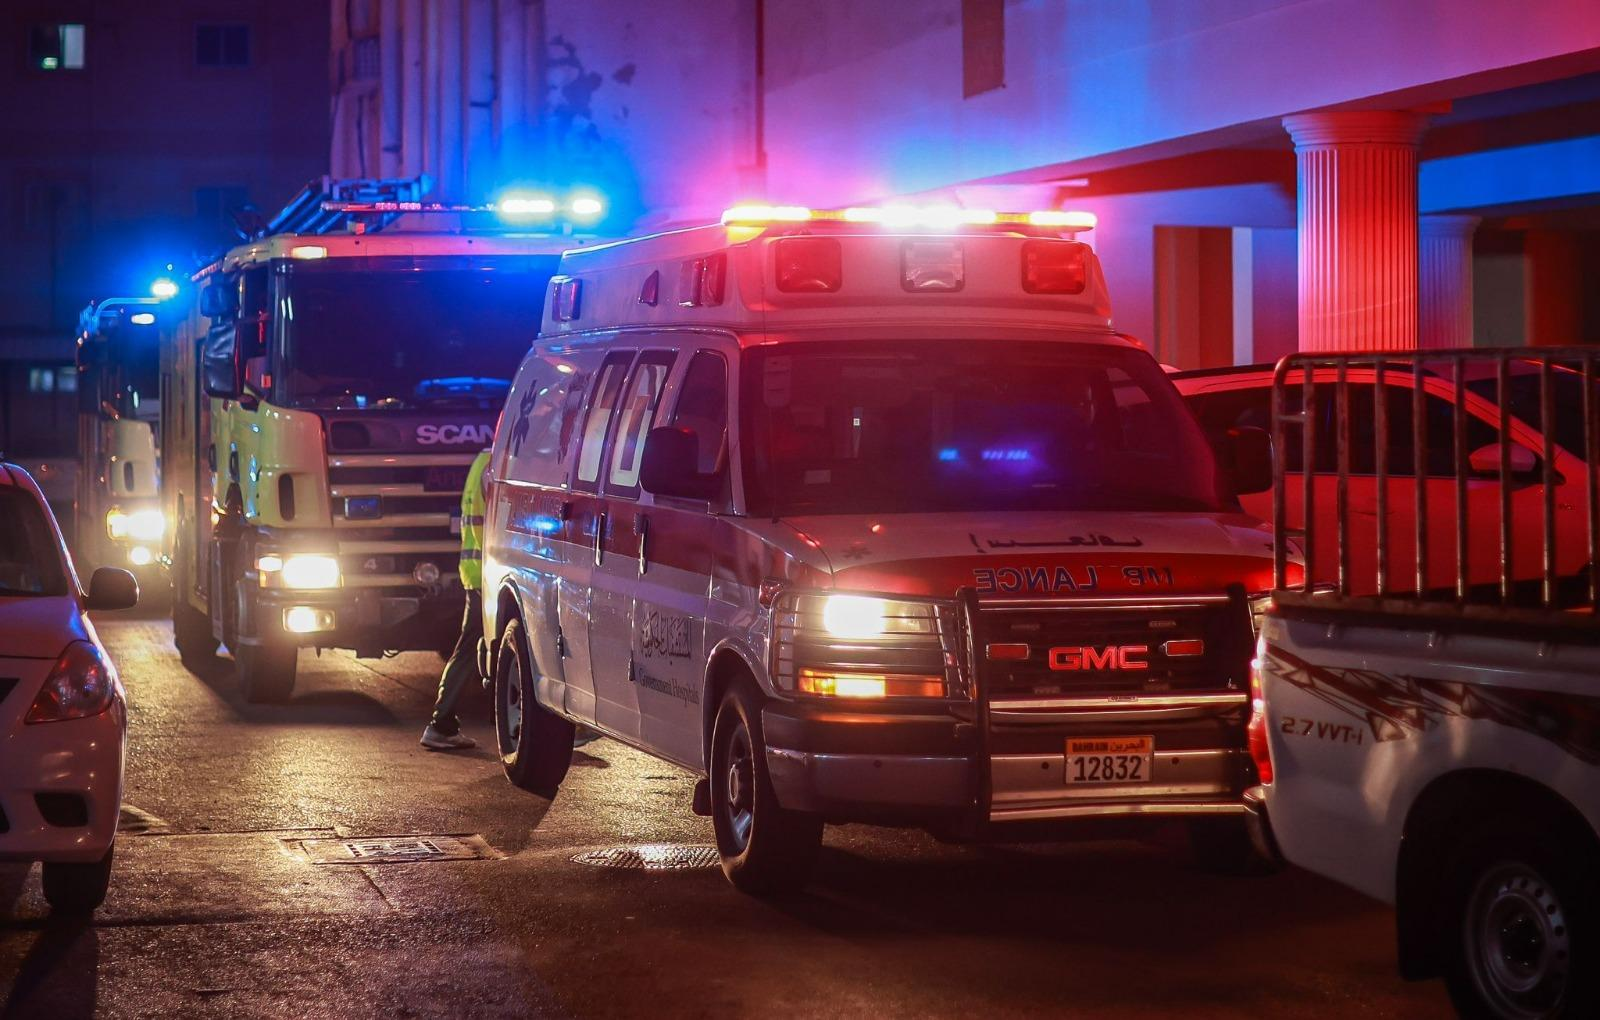ambulance_on: (477, 199, 1318, 885)
firetruck_on: (148, 170, 618, 691)
